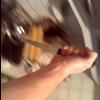melee: (16, 34, 97, 84)
